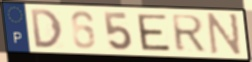5: (102, 11, 134, 52)
6: (69, 9, 97, 51)
D: (29, 8, 65, 50)
E: (135, 13, 173, 53)
N: (207, 12, 243, 59)
R: (169, 14, 208, 54)
